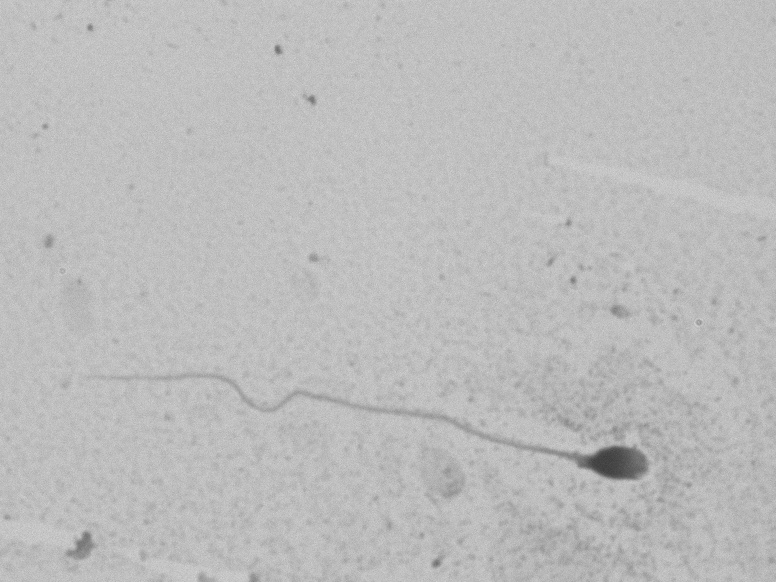Normal: (54, 308, 675, 510)
